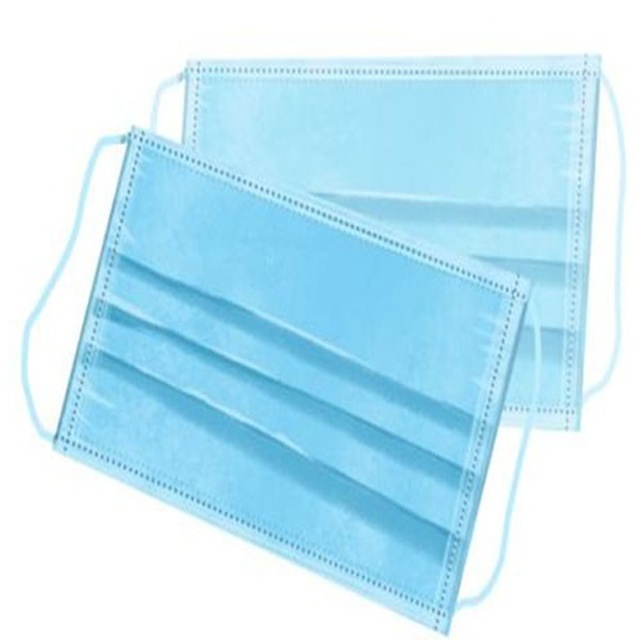mask: (18, 119, 544, 640), (147, 50, 625, 435)
